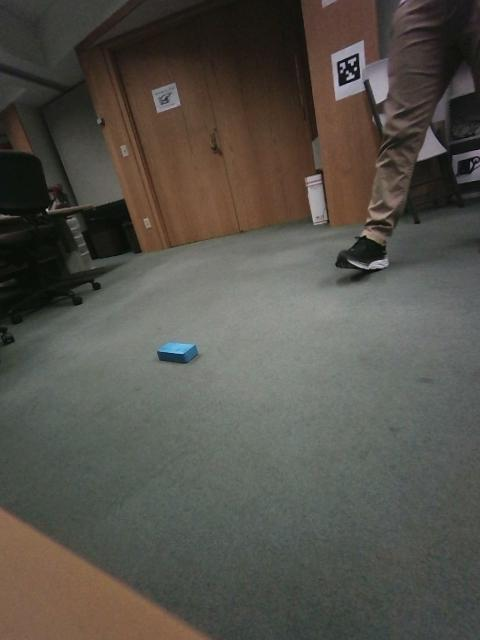block: (371, 267, 430, 308)
